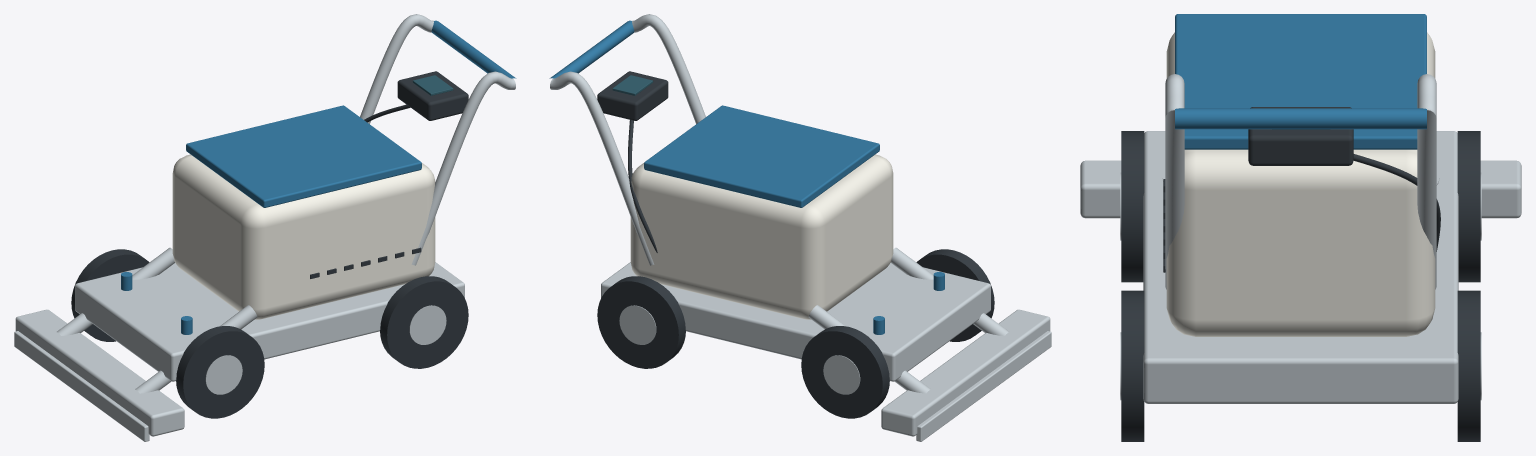
File: curling-club-and-ice-maintenance-ice-scraper-machine-659460fd__31287.glb
The picture shows the model from 3 angles, left to right: view 1: azimuth 30°, elevation 25°; view 2: azimuth 150°, elevation 25°; view 3: azimuth 270°, elevation 25°; orthographic projection. The views are drawn at different scales.
Visible parts, largest first — view 1: ice-scraper-machine; view 2: ice-scraper-machine; view 3: ice-scraper-machine.
Boxes of the visible parts, x1,y1,x2,y2 form: ice-scraper-machine: (14,14,516,441); ice-scraper-machine: (549,14,1051,441); ice-scraper-machine: (1080,14,1521,441).
Size of the model in its own units: 1.77 by 1.11 by 1.05.
